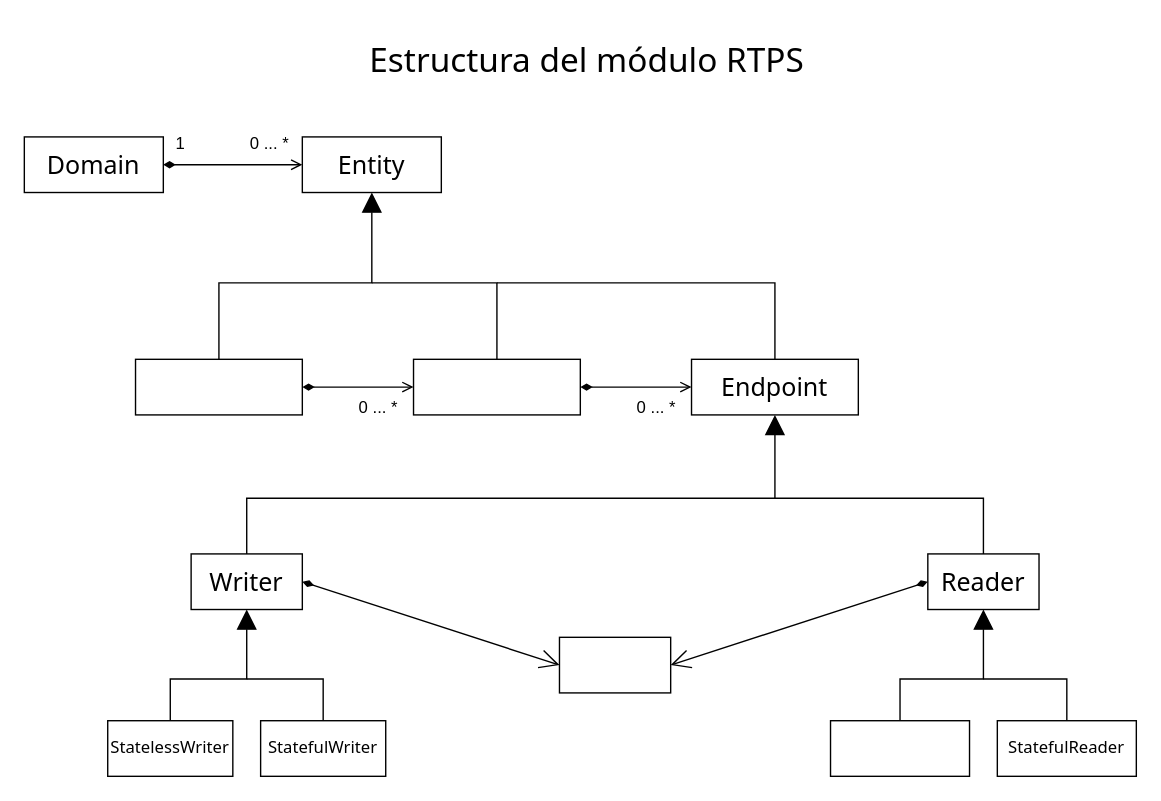
This 1161x801 diagram has some shape labels left out. The shapes that lost their labels are listed below. From the top down, each one's centre as x and y in pixels, then its label:
(218,386): Participant
(496,386): Group
(614,664): Message
(899,747): StatelessReader
